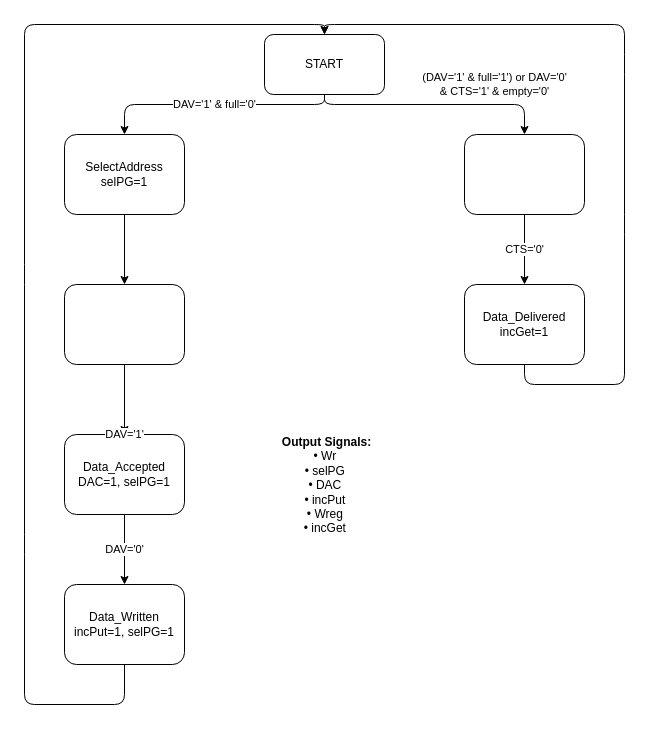
Some shapes in this 650 by 730 pixel diagram are drawn without their labels. The shapes that lost their labels are listed below. From the top down, each one's box as (x1, y1, x2, y2) in pixels, then its label:
(464, 134, 584, 214): Delivering Wreg=1
(64, 284, 184, 364): Writing Wr=1, selPG=1
